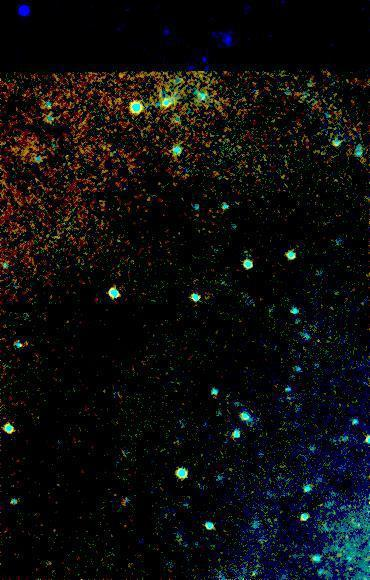star: (334, 551, 364, 580)
